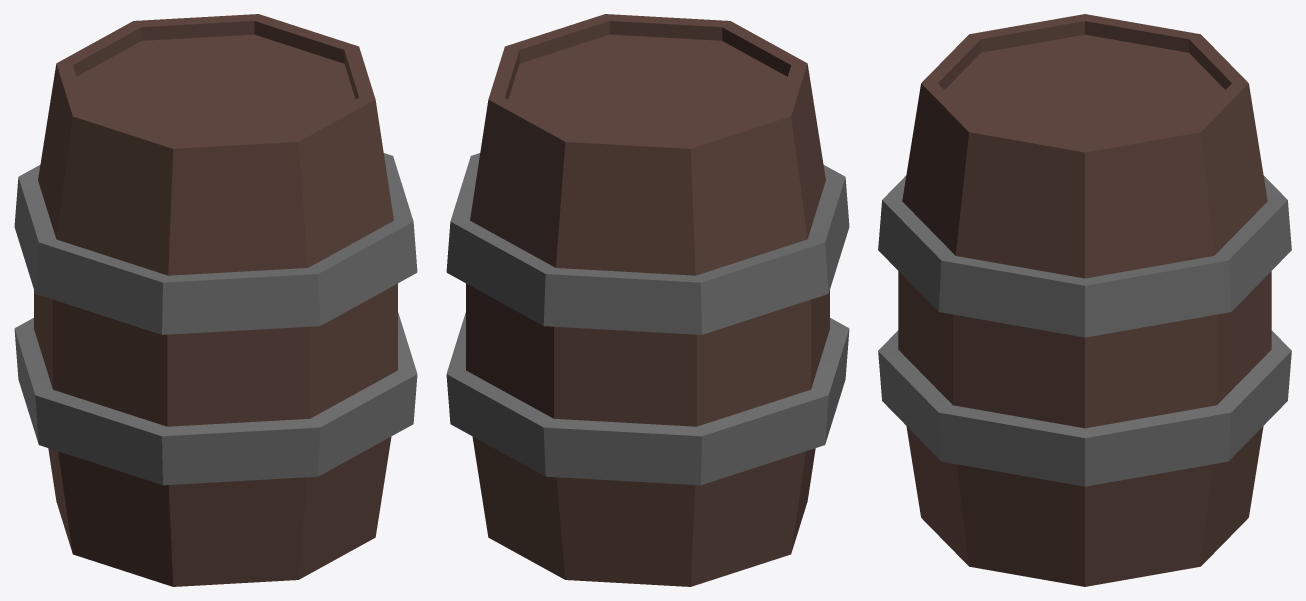
The model's file is barrel_low.fbx.
The picture shows the model from 3 angles, left to right: view 1: azimuth 30°, elevation 25°; view 2: azimuth 150°, elevation 25°; view 3: azimuth 270°, elevation 25°; orthographic projection.
Parts seen in each view (by area): view 1: barrel_body, barrel_hoops; view 2: barrel_body, barrel_hoops; view 3: barrel_body, barrel_hoops.
Part boxes in pixels (box(x1,y1,x2,y2)): barrel_body: box(34, 14, 397, 586); barrel_hoops: box(14, 153, 417, 485); barrel_body: box(466, 14, 829, 586); barrel_hoops: box(446, 153, 849, 485); barrel_body: box(898, 14, 1271, 586); barrel_hoops: box(878, 175, 1291, 486).
Bounding box in the file's own units: 34.58 × 40.06 × 34.58.
